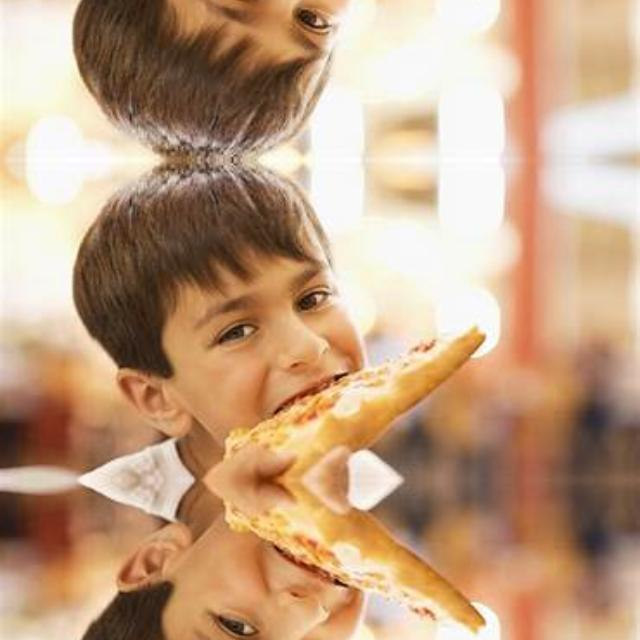person: (62, 176, 478, 477), (62, 483, 478, 640), (62, 0, 478, 144)
